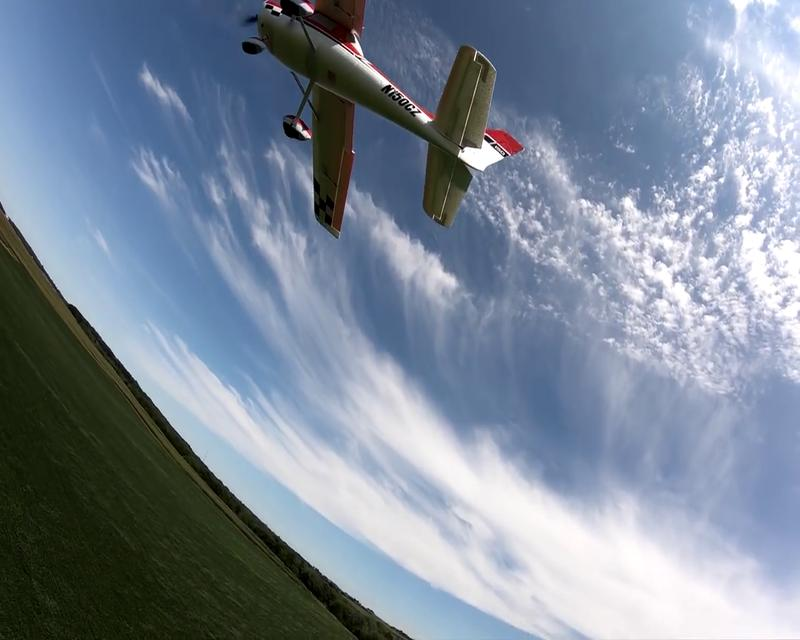UAV: (239, 0, 524, 239)
